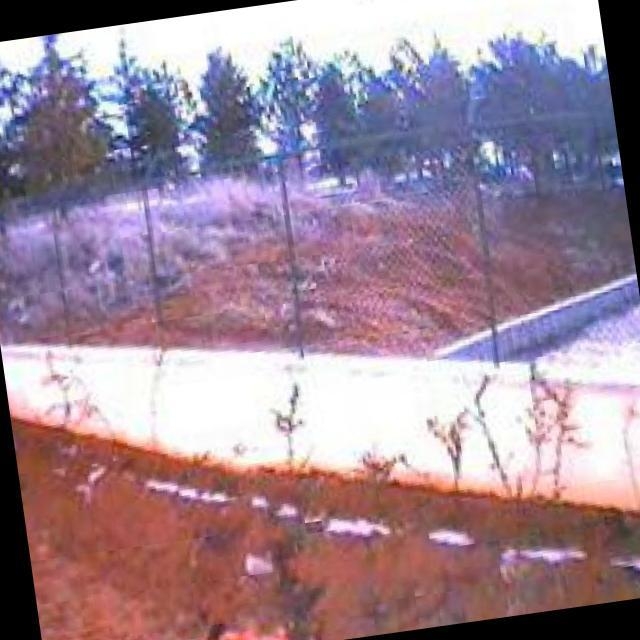Fire: (158, 614, 292, 640)
